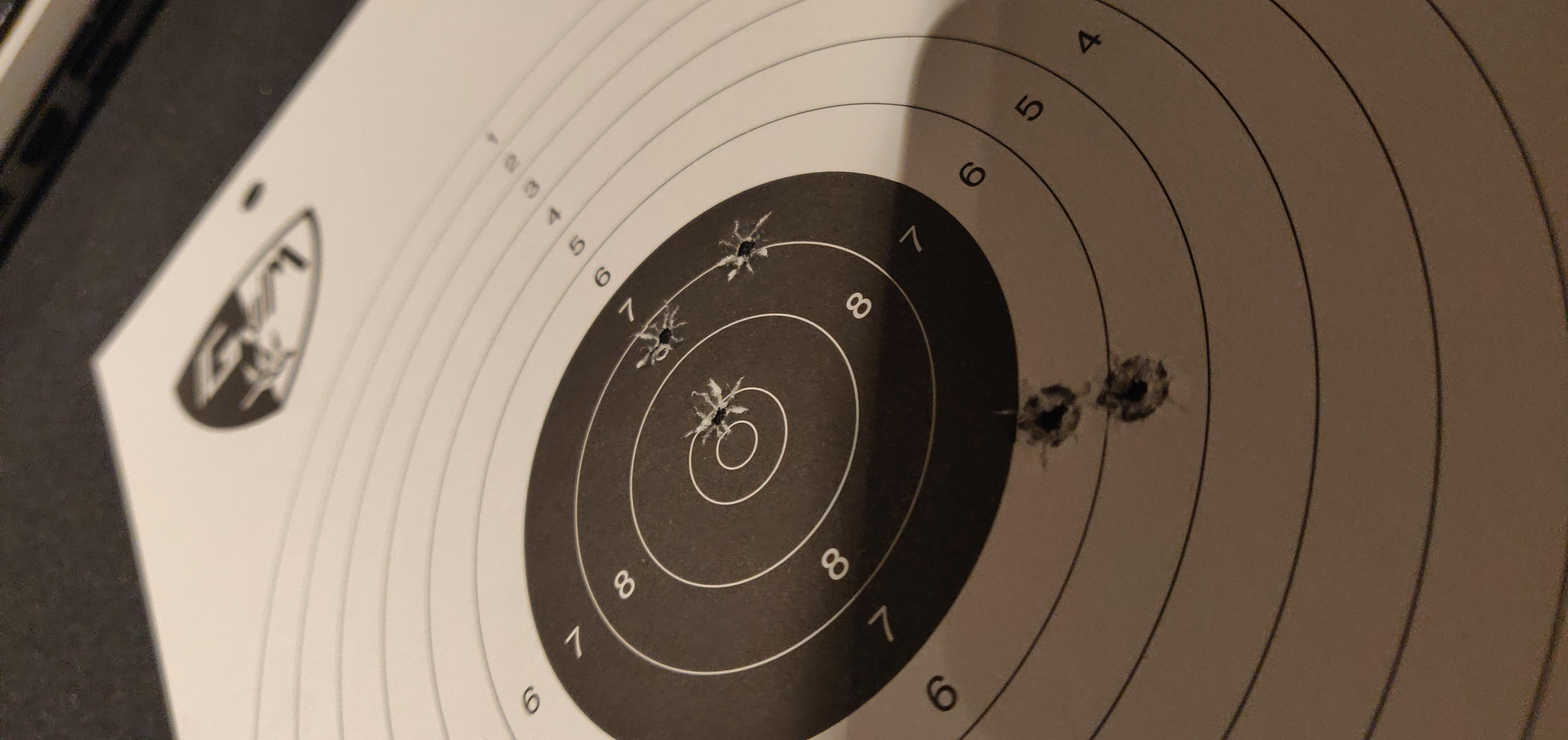hole: (666, 516, 824, 555), (583, 479, 758, 514), (626, 321, 773, 356), (965, 337, 1118, 365), (785, 297, 921, 325)
